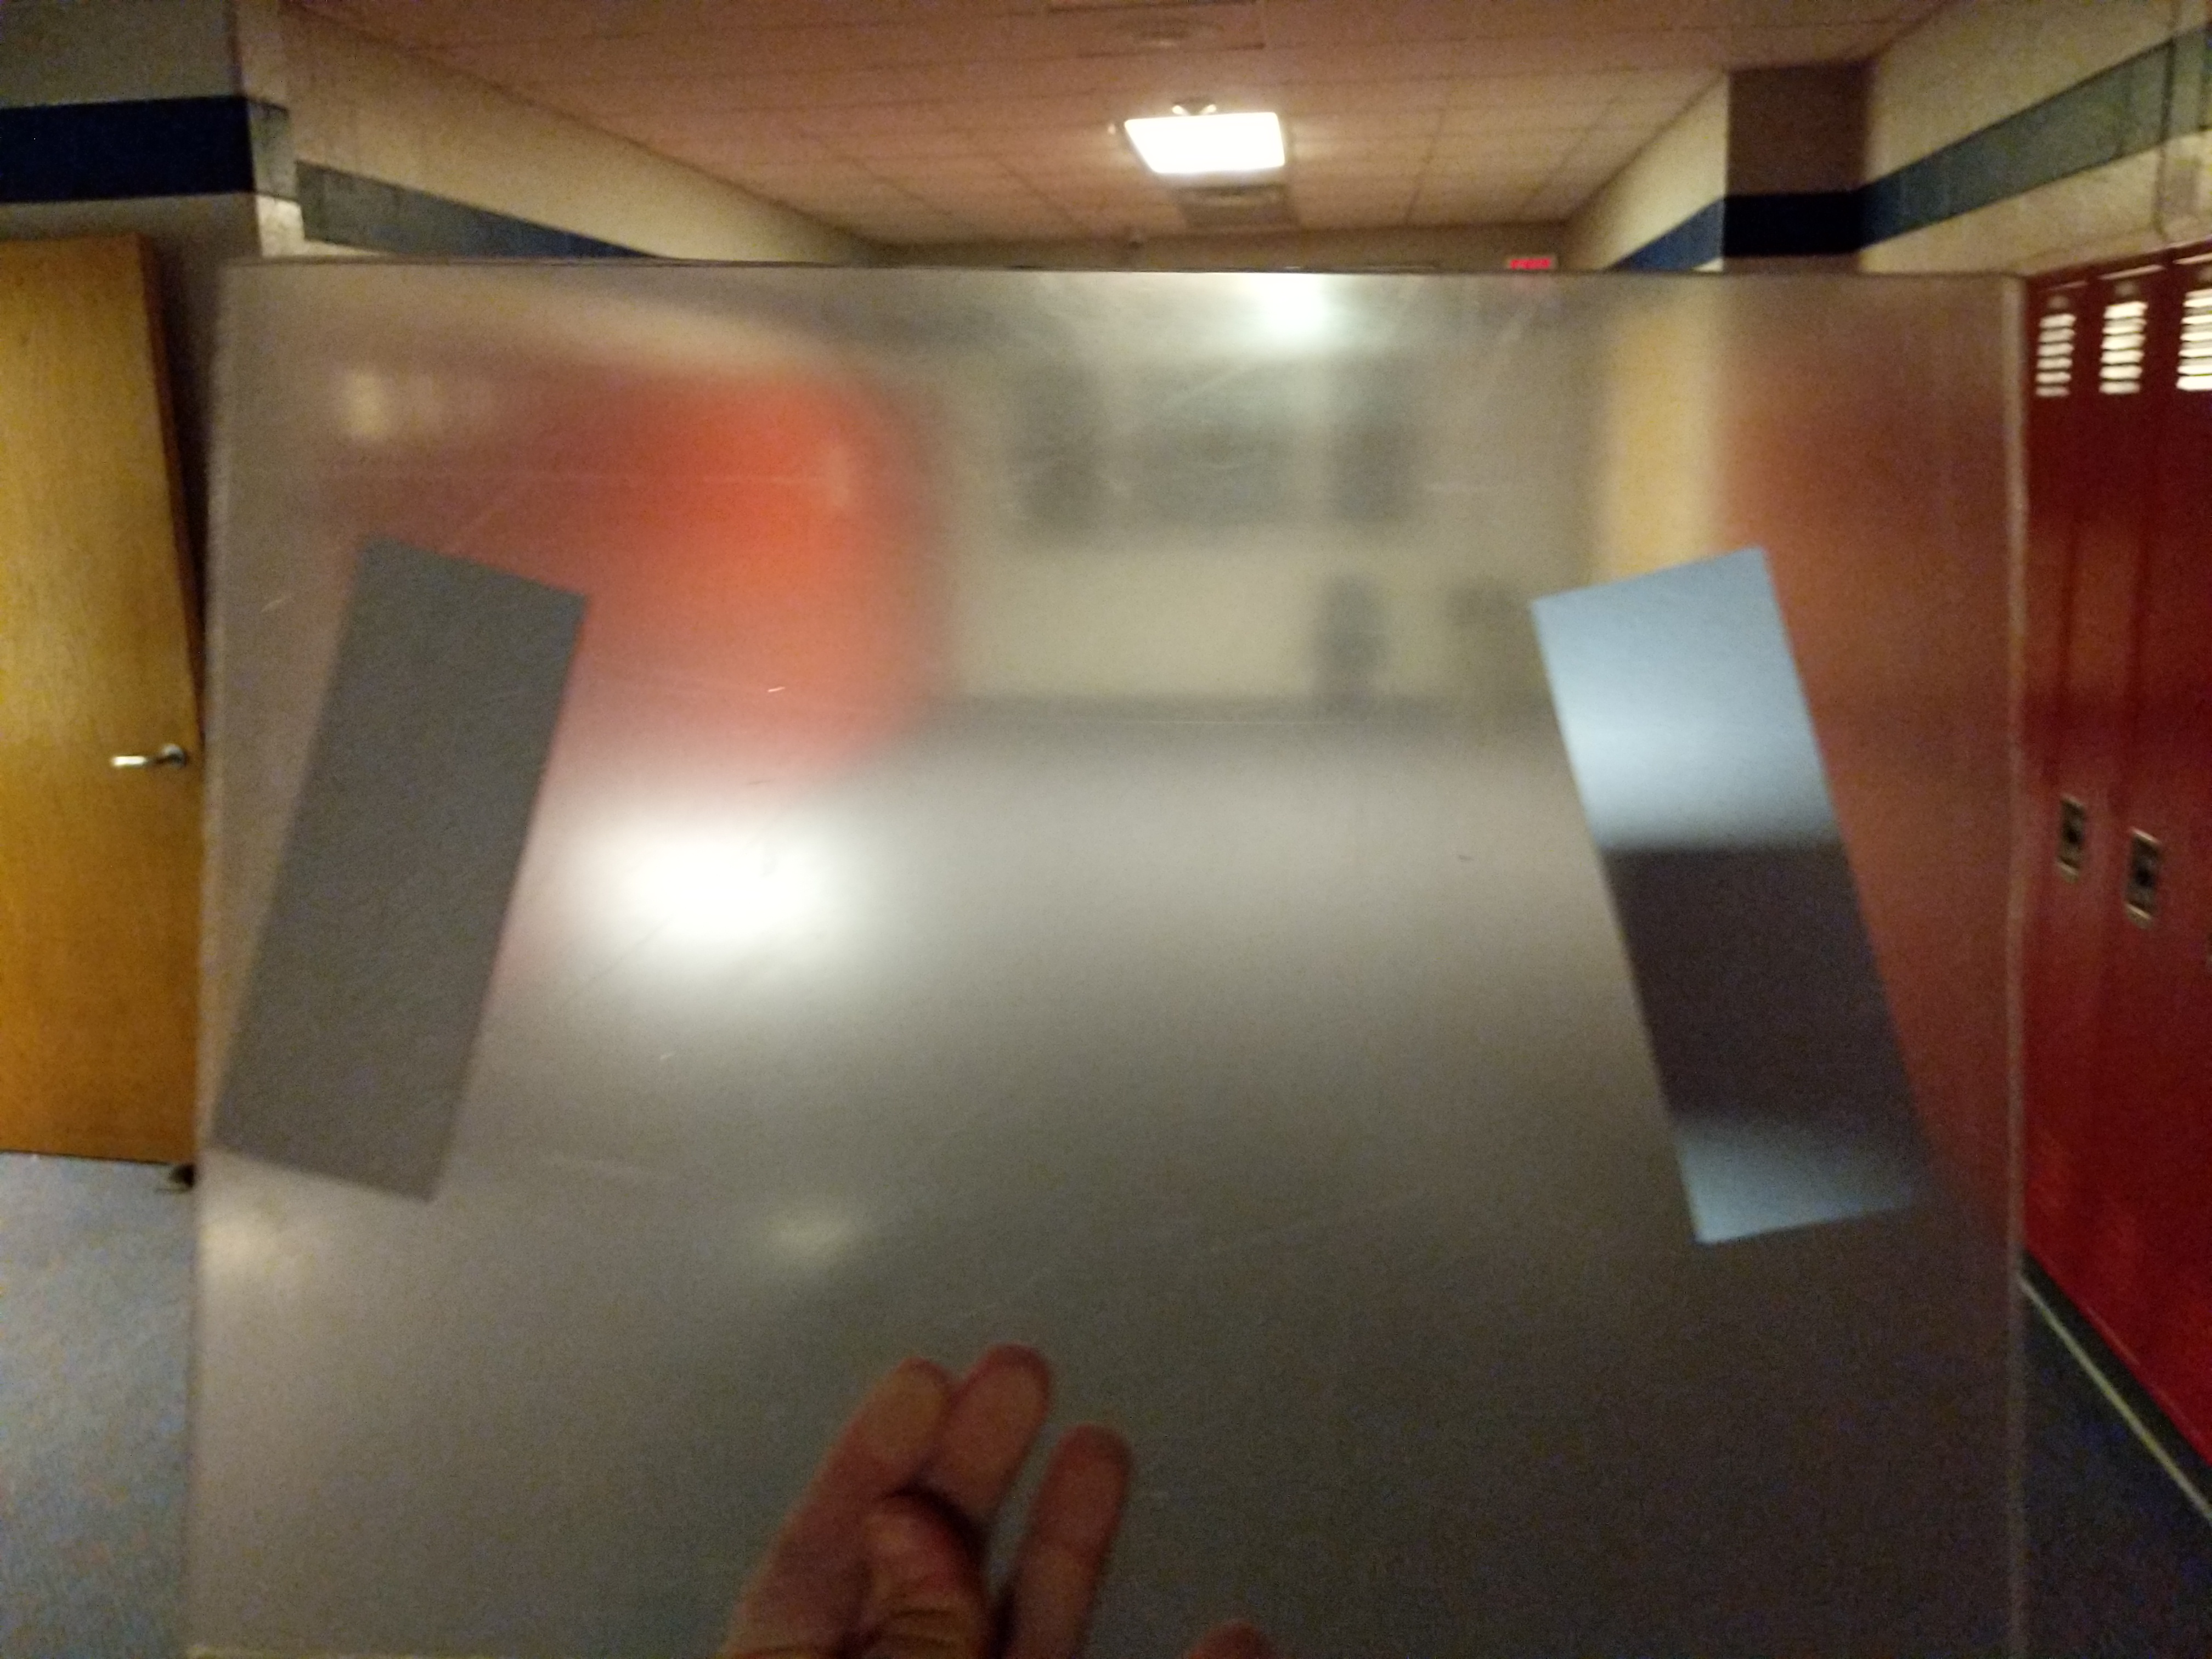vision_target: (197, 525, 1954, 1262)
